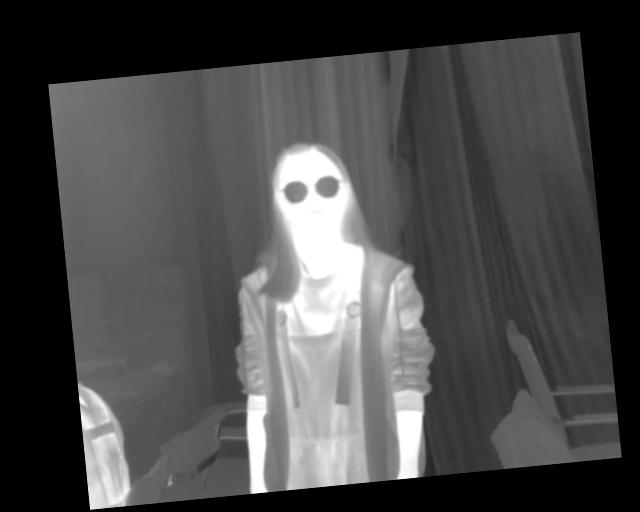face: (381, 179, 463, 267), (235, 175, 313, 267)
